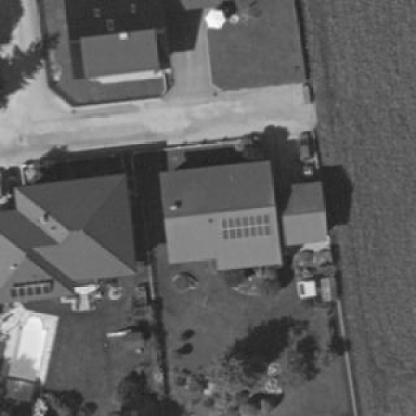solar-pv-panel: (219, 214, 270, 240), (11, 281, 53, 298)
